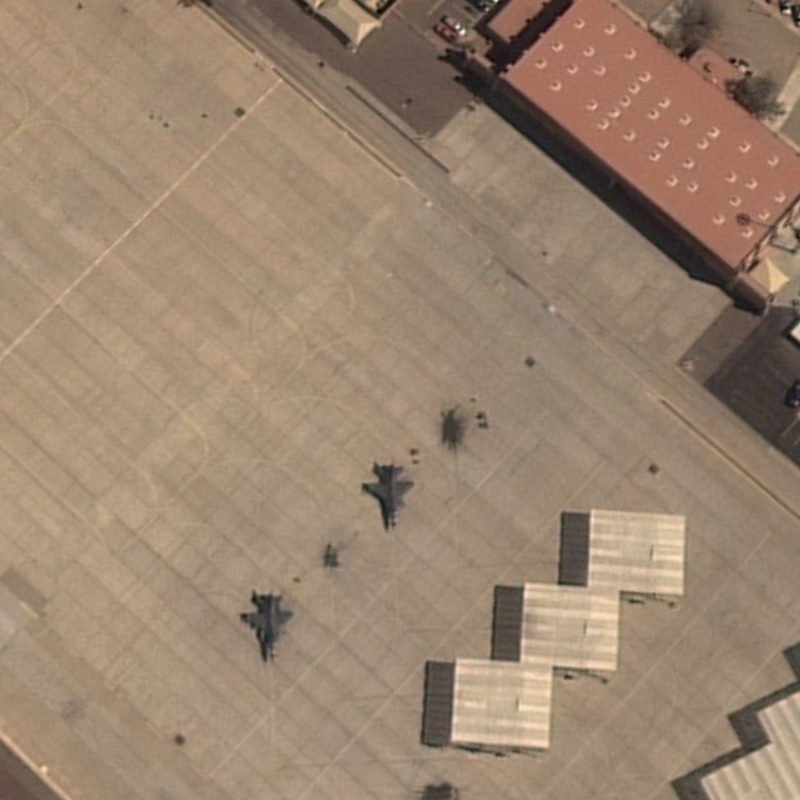A5: (238, 583, 299, 667), (359, 453, 422, 531)
